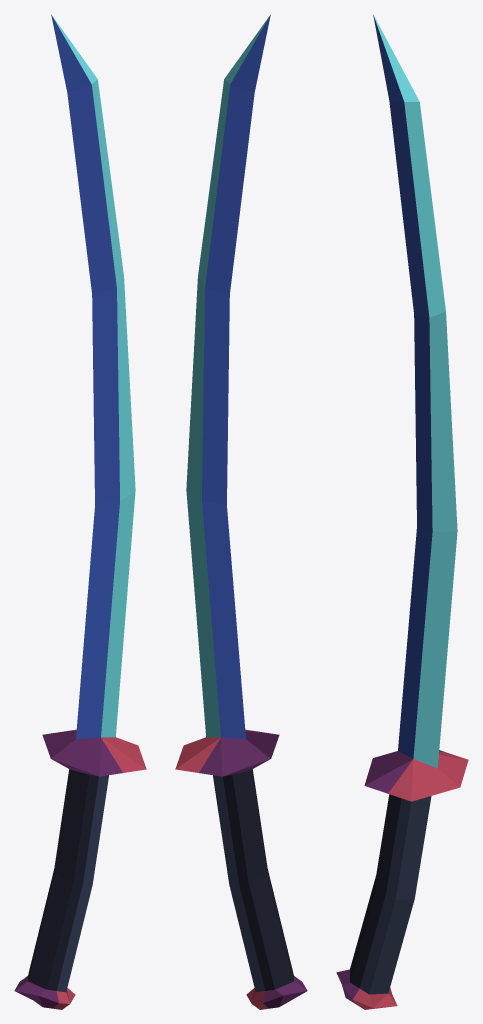
Rendered from katana.gltf.
The picture shows the model from 3 angles, left to right: view 1: azimuth 30°, elevation 25°; view 2: azimuth 150°, elevation 25°; view 3: azimuth 330°, elevation 25°; orthographic projection.
Visible parts, largest first — view 1: beveled_cuboid; view 2: beveled_cuboid; view 3: beveled_cuboid.
Boxes of the visible parts, x1=… form: beveled_cuboid: x1=14, y1=14, x2=146, y2=1009; beveled_cuboid: x1=175, y1=14, x2=307, y2=1009; beveled_cuboid: x1=336, y1=14, x2=468, y2=1009.
Bounding box in the file's own units: 0.2349 × 1.79 × 0.1875.
1 material, 1 textured.
